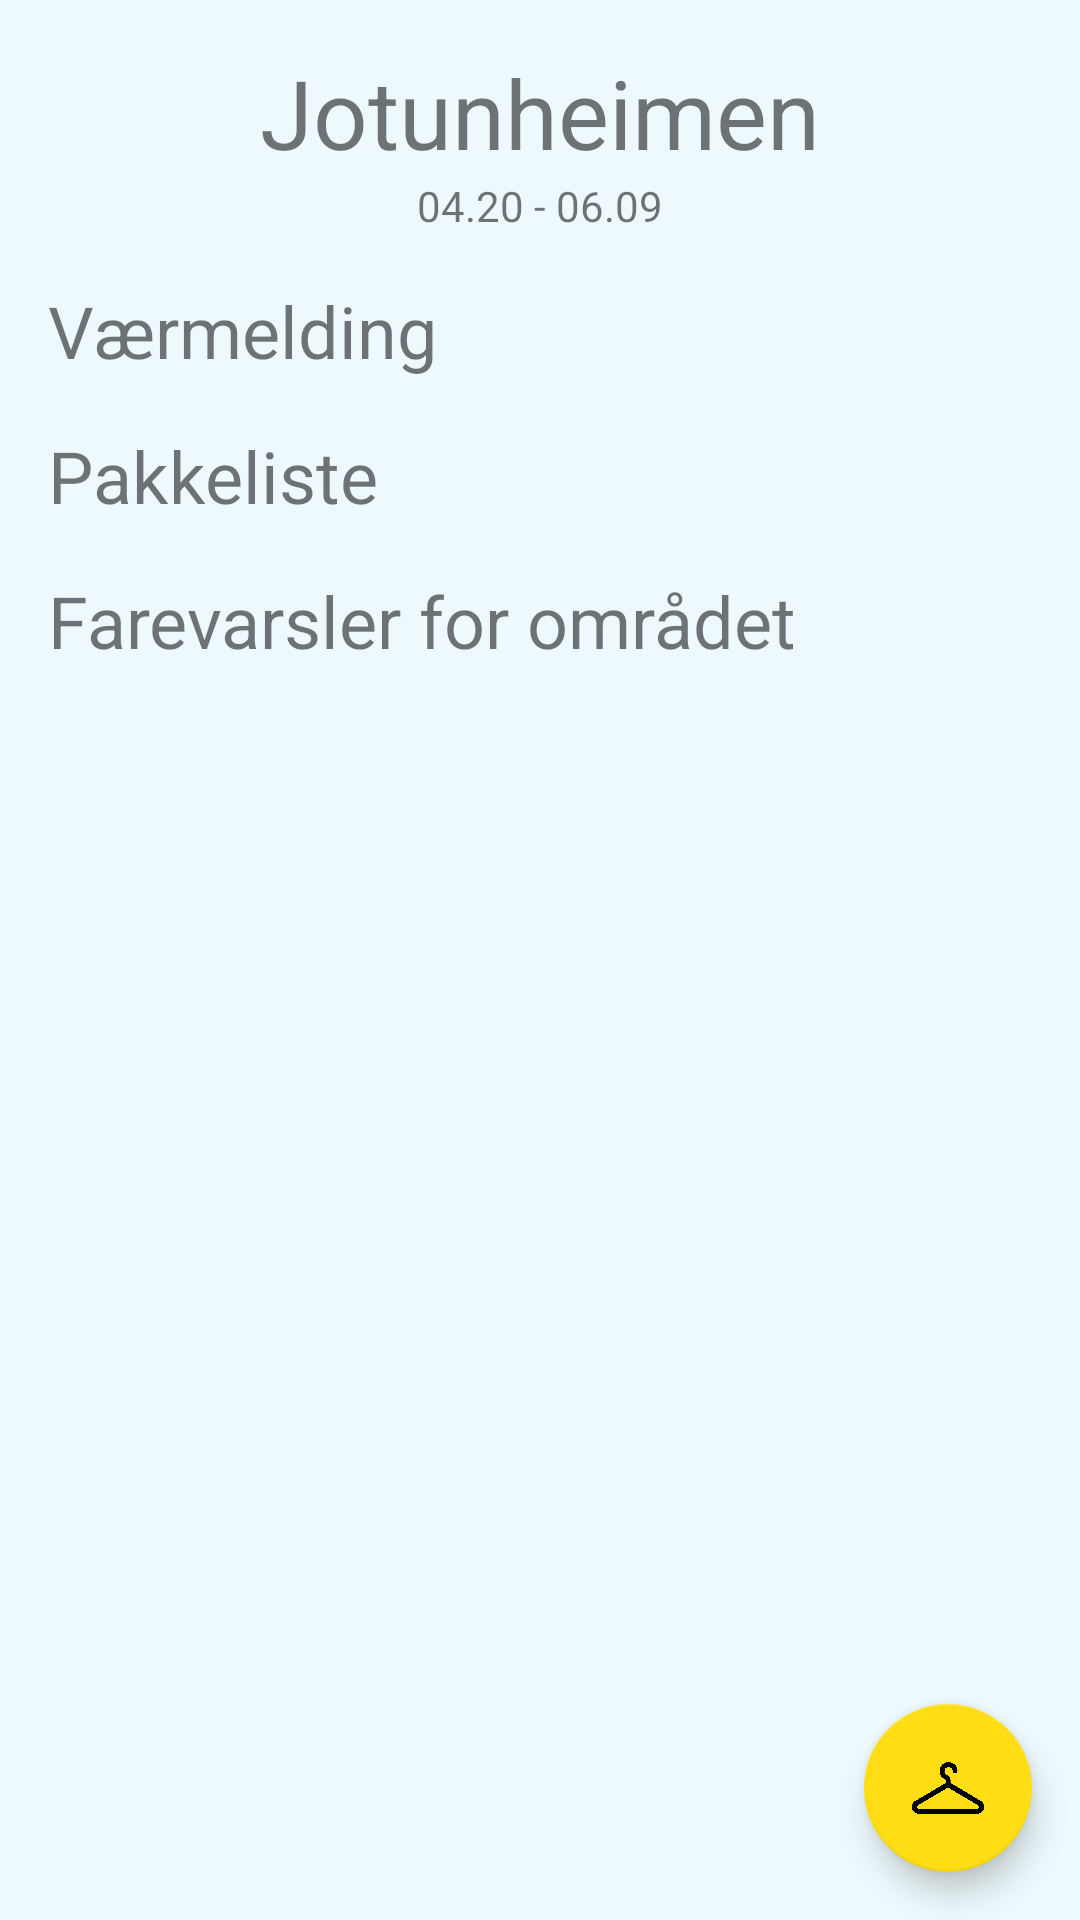

Named icons in this screenshot (1080*1920) and their centers, (x,y):
coathanger: (948,1788)
